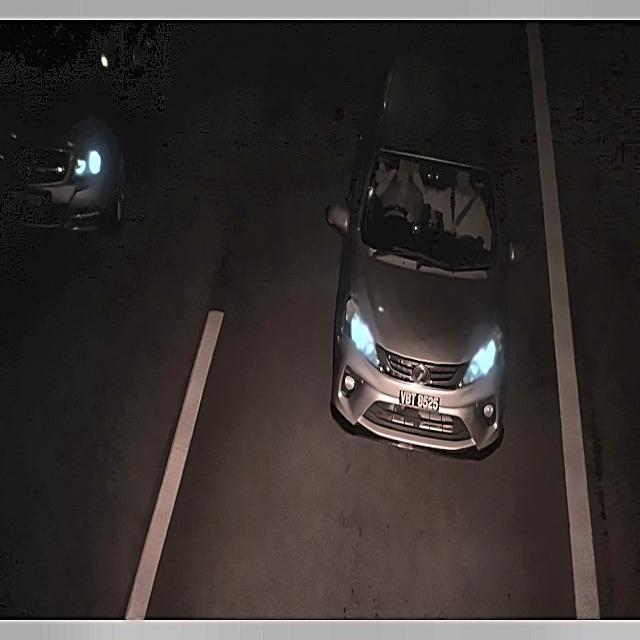car: (392, 381, 447, 423)
